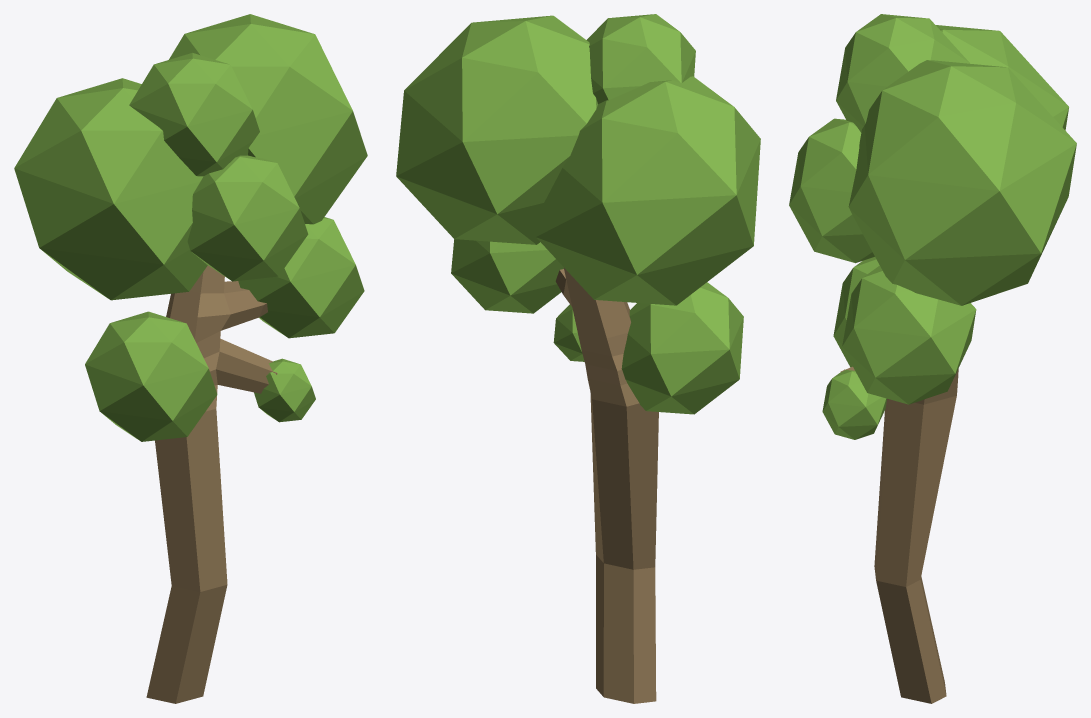
Rendered from Oak_Tree.fbx.
3 views of the same model, side by side, from view 1: azimuth 30°, elevation 25°; view 2: azimuth 150°, elevation 25°; view 3: azimuth 270°, elevation 25° (orthographic). The views are drawn at different scales.
Parts seen in each view (by area): view 1: Oak_Tree; view 2: Oak_Tree; view 3: Oak_Tree.
Part boxes in pixels (bbox=[...]): Oak_Tree: bbox=[14, 14, 367, 703]; Oak_Tree: bbox=[396, 14, 760, 703]; Oak_Tree: bbox=[789, 14, 1076, 703].
Bounding box in the file's own units: 3.63 × 7.08 × 2.74.
Materials: 1 (1 with a texture image).
